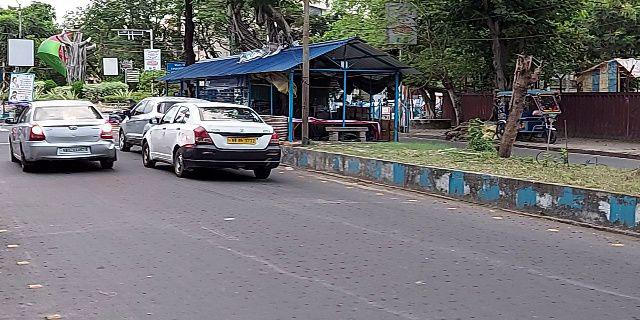Car: (139, 100, 287, 179), (8, 101, 123, 171), (117, 97, 177, 144)
